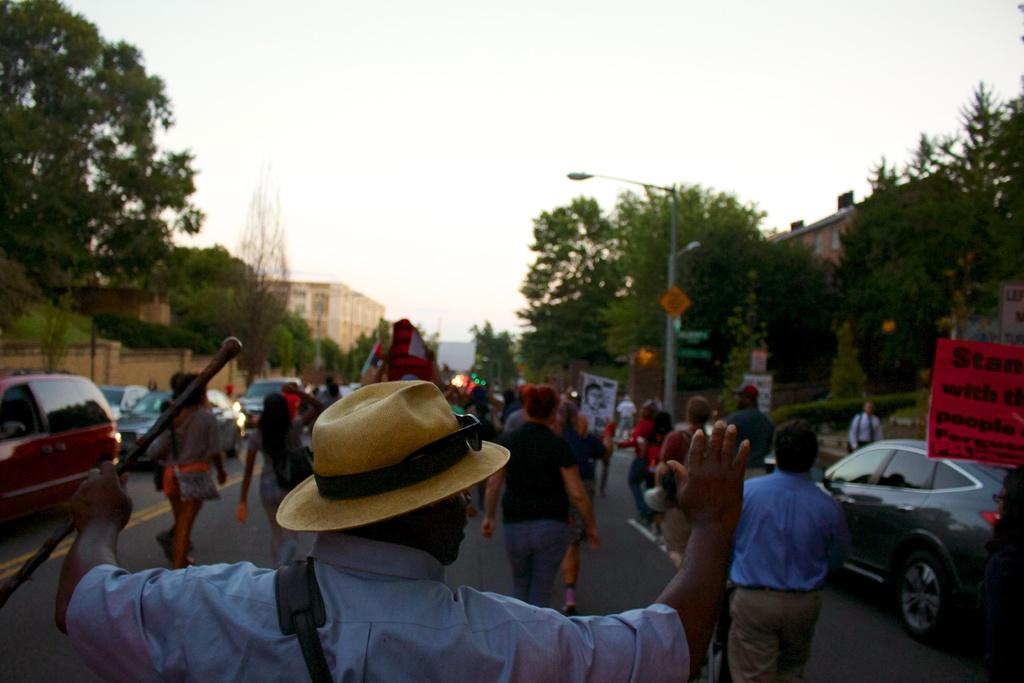Hat: (274, 387, 520, 529)
